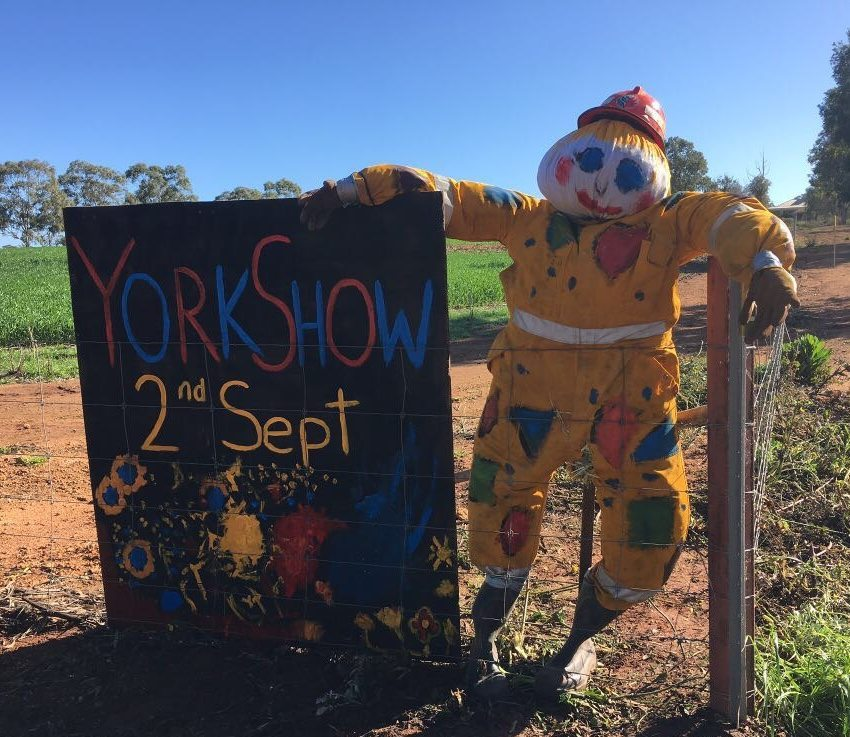person-like: (311, 85, 806, 708)
